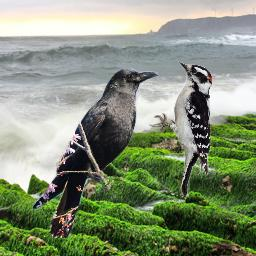Crow: (32, 67, 158, 238)
Woodpecker: (149, 60, 214, 199)
